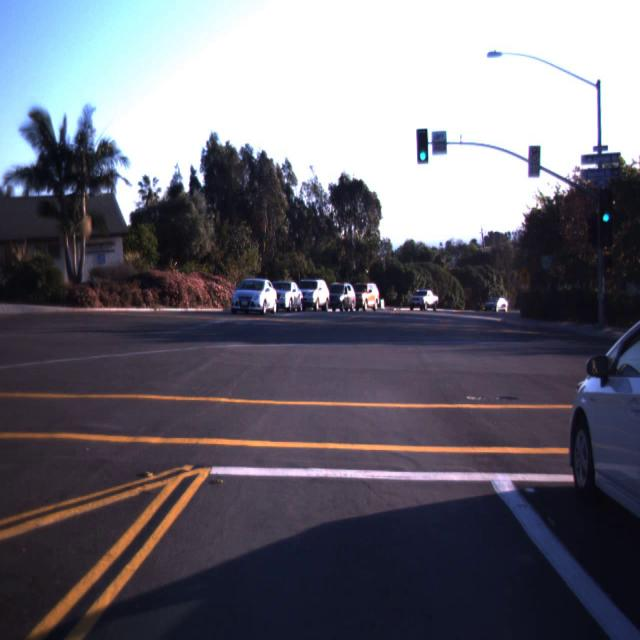yesil: (416, 128, 428, 164)
